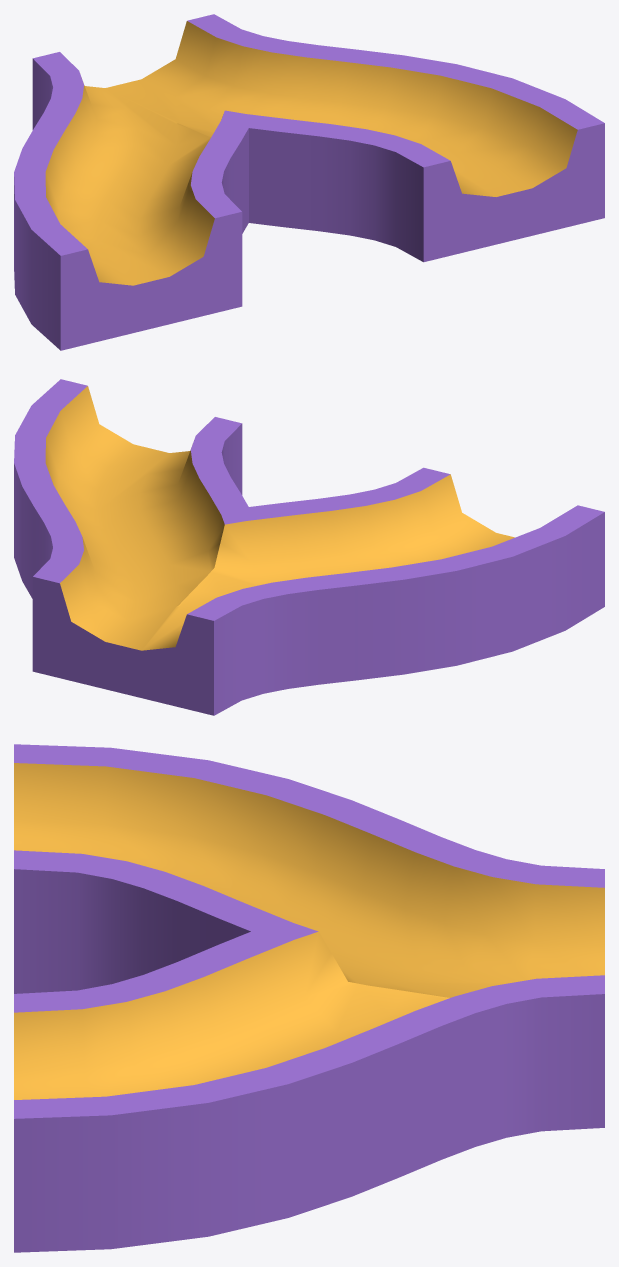
File: split-double.glb
3 renders of one model, top to bottom at view 1: azimuth 30°, elevation 25°; view 2: azimuth 150°, elevation 25°; view 3: azimuth 270°, elevation 25°, orthographic. The views are drawn at different scales.
Visible parts, largest first — view 1: split-double; view 2: split-double; view 3: split-double.
Part boxes in pixels (x1,y1,x2,y2): split-double: [14, 14, 604, 350]; split-double: [14, 379, 604, 715]; split-double: [14, 744, 604, 1252].
Bounding box in the file's own units: 3 × 0.4999 × 2.
Materials: 1 (1 with a texture image).
